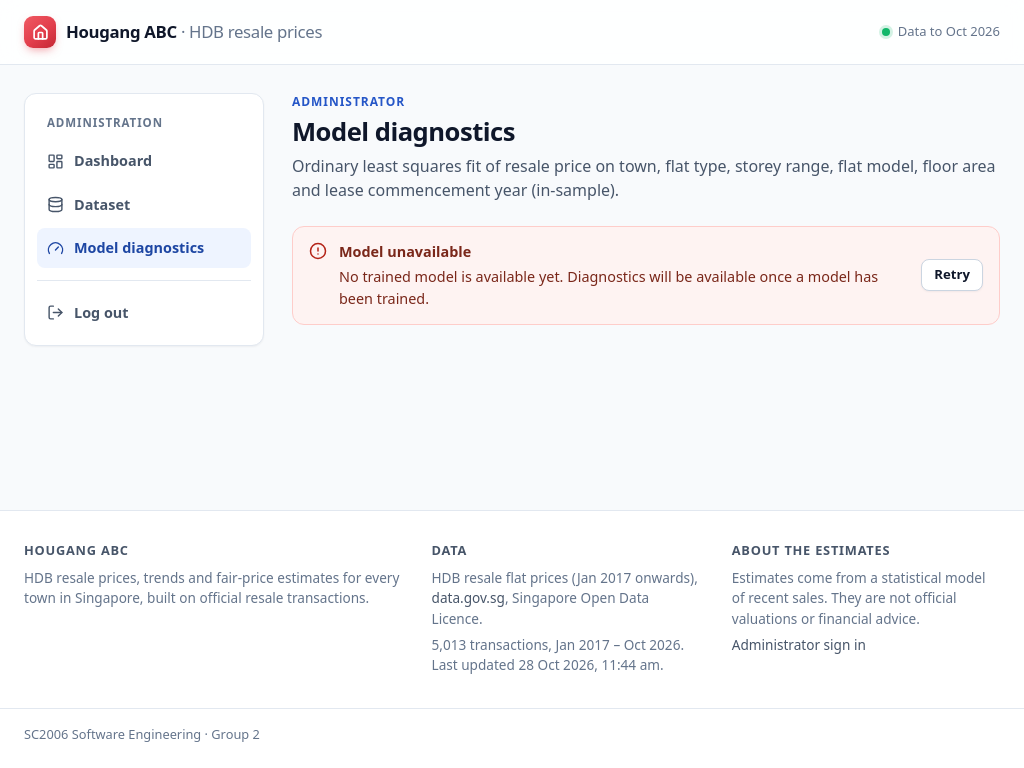
Scenario: S10 Model Diagnostics (UC-4.8) › an unavailable model shows a message and Retry (EX.1)
The image size is (1024, 768).
Check: the text "Model unavailable" is shown, box [339,242,471,261]
Click the button "Retry".
click(952, 275)  # box [921,259,983,291]
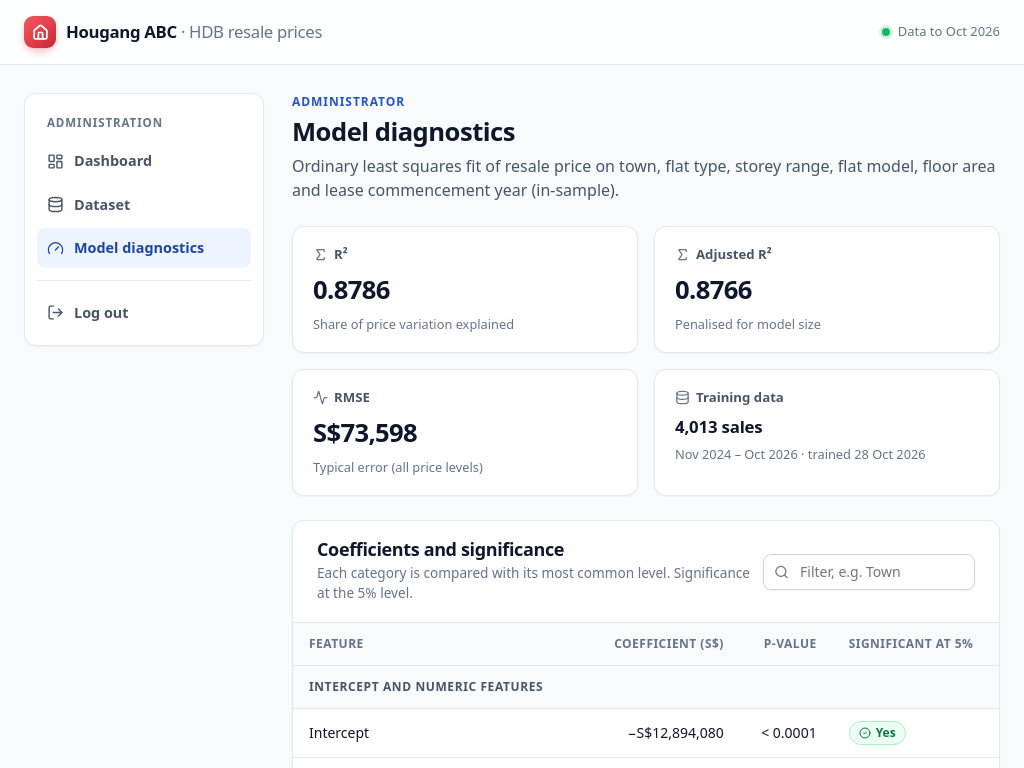
Check: the text "0.8786" is shown, box [313,272,390,306]
